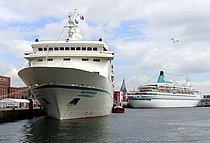Ship: (14, 8, 121, 121), (125, 68, 208, 111)
